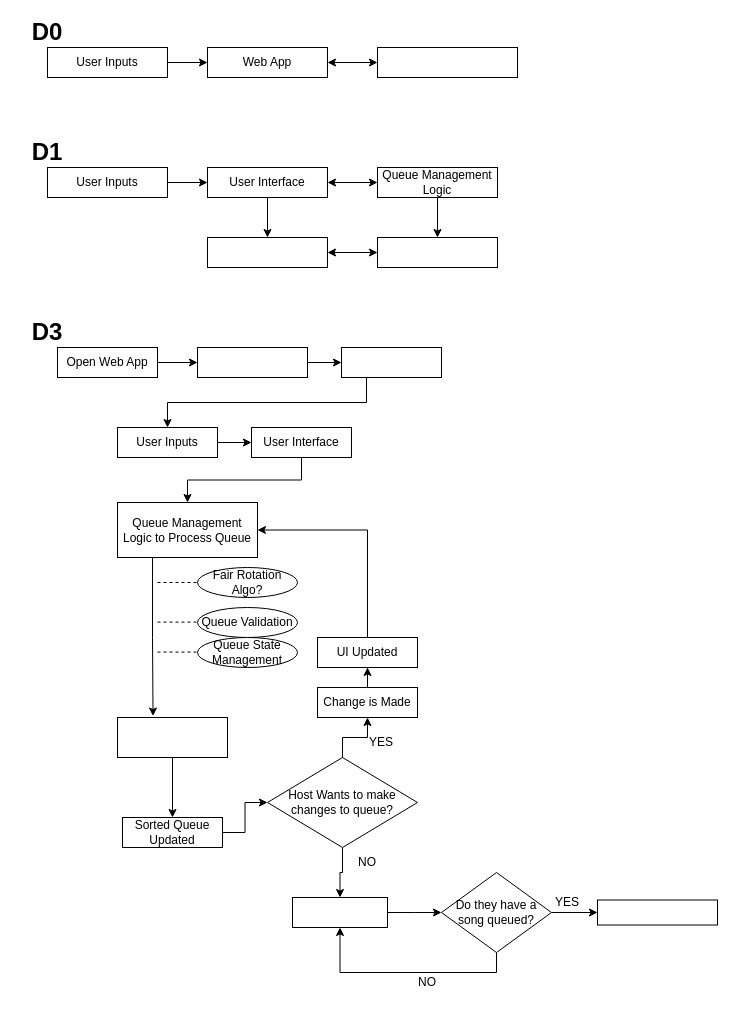
This 735x1014 diagram has some shape labels left out. The box of each missing label's shape, as (x1, y1, x2, y2) in pixels:
API Integration: (206, 236, 328, 268)
Check for next user in rotation: (292, 896, 388, 928)
Data Security: (376, 236, 498, 268)
Data Security Module: (116, 716, 228, 758)
Invite Friends to Queue: (340, 346, 442, 378)
Play song: (596, 899, 718, 925)
Sign Into Spotify (w/ premium if host): (196, 346, 308, 378)
Spotify Api Integration: (376, 46, 518, 78)
